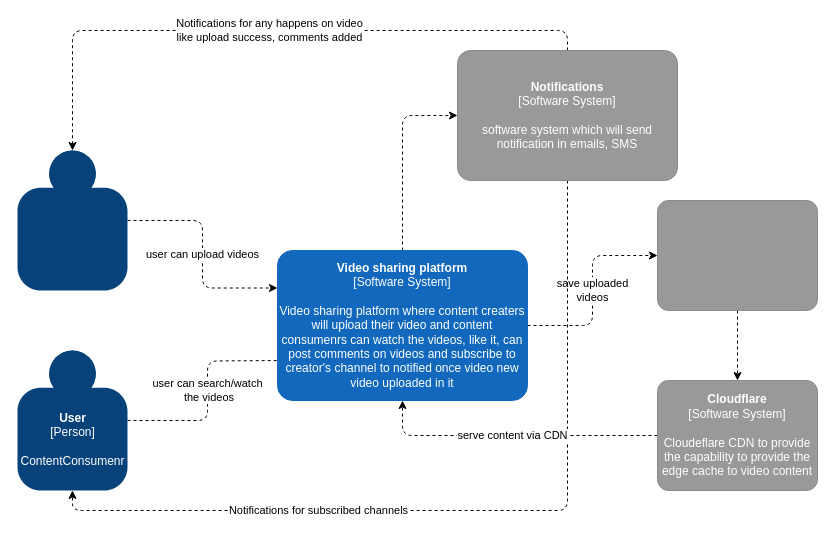
Image size: 835x536. Some labels were removed from this diagram. Here are the shapes that lost their labels. From the top down, the centre of each, then its label:
At (x=72, y=220): "User [Person] ContentCreator".
At (x=737, y=255): "S3 [Software System] Cloud storage to store video files.".
